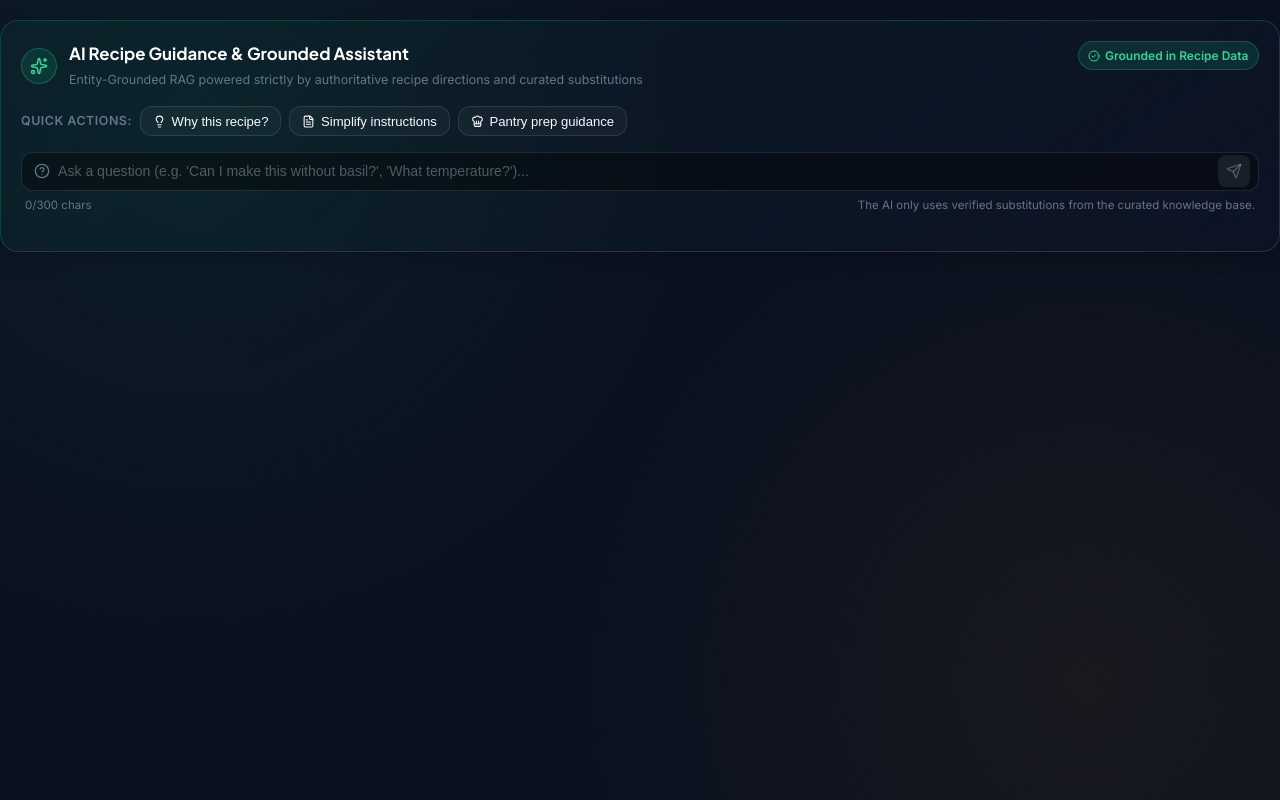
AiAssistantPanel Component › renders Markdown formatting like bold and lists into HTML elements instead of literal asterisks
This screenshot has width=1280, height=800.
Replace the text in the field with placeholder "Ask a question" with "How do I make this?" at (638, 171), box [58,153,1218,190]
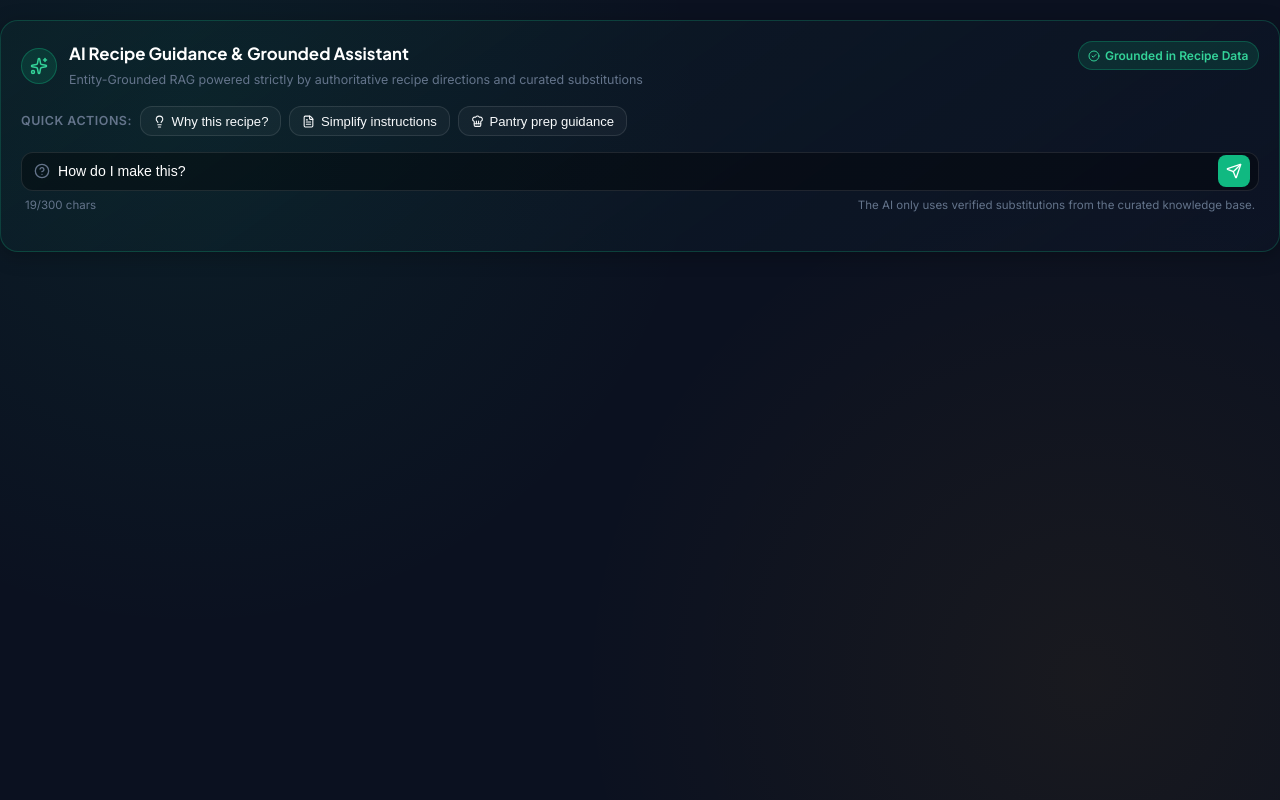
Click the button titled "Send question to AI Assistant".
click(1234, 171)  # box [1218,155,1250,187]
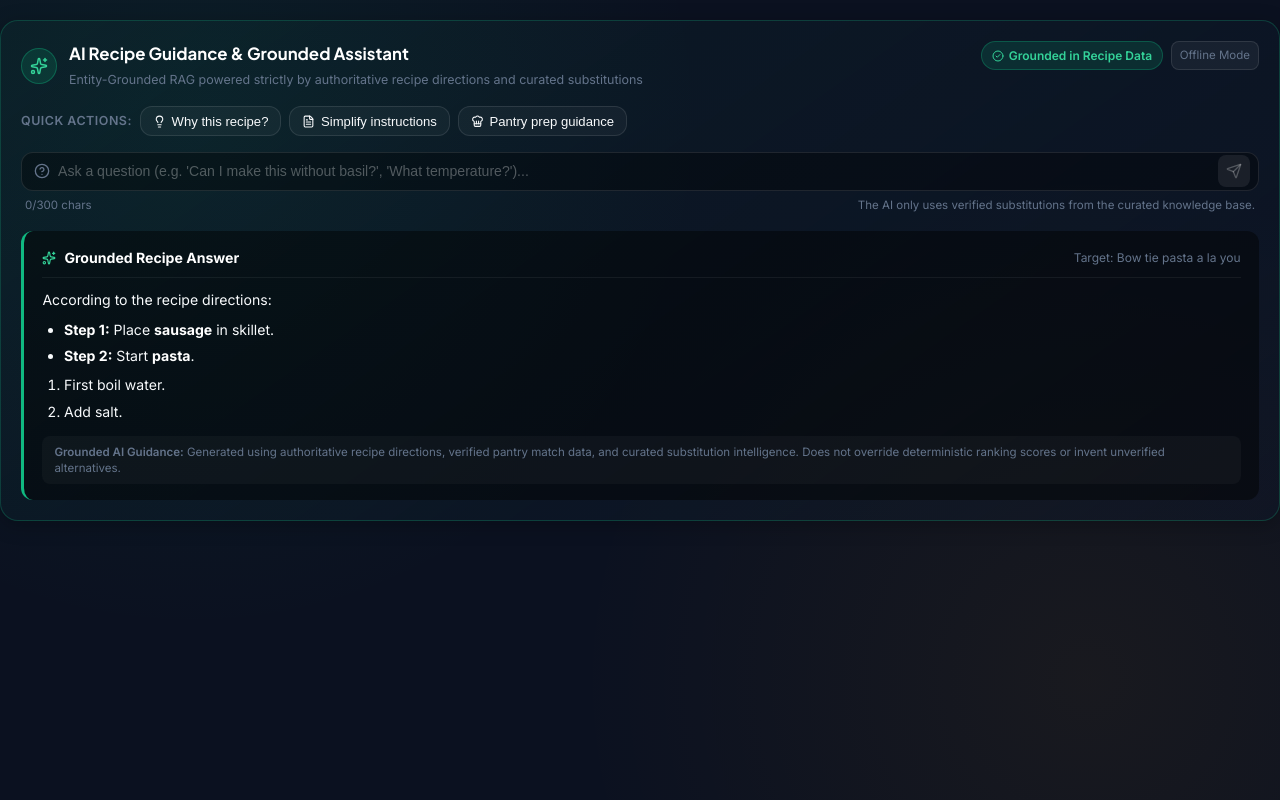
Expected: the element with test id "ai-response-box" is shown, [21,231,1259,500]
Expected: the element with class "ai-response-content" is shown, [42,291,274,420]
Expected: the list "Step 1: Place sausage in skillet. Step 2: Start pasta." is shown, [64,320,274,364]
